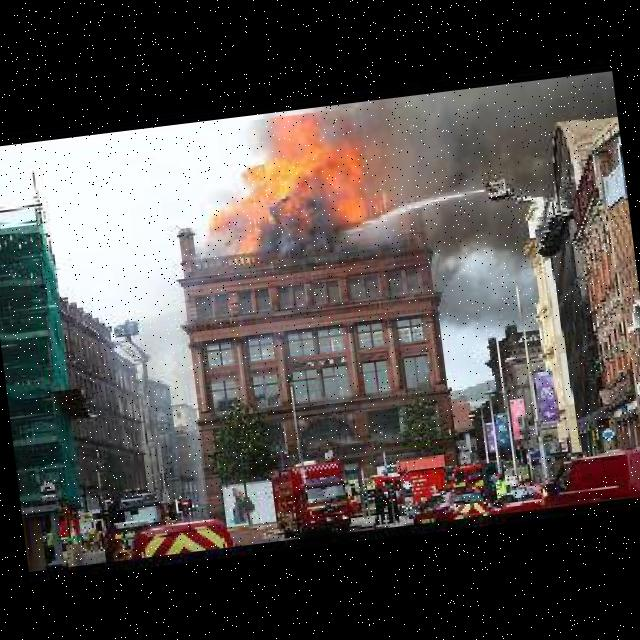fire: (185, 104, 402, 268)
